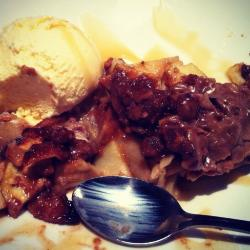apple_pie: (7, 57, 250, 222)
icecream: (3, 15, 106, 123)
